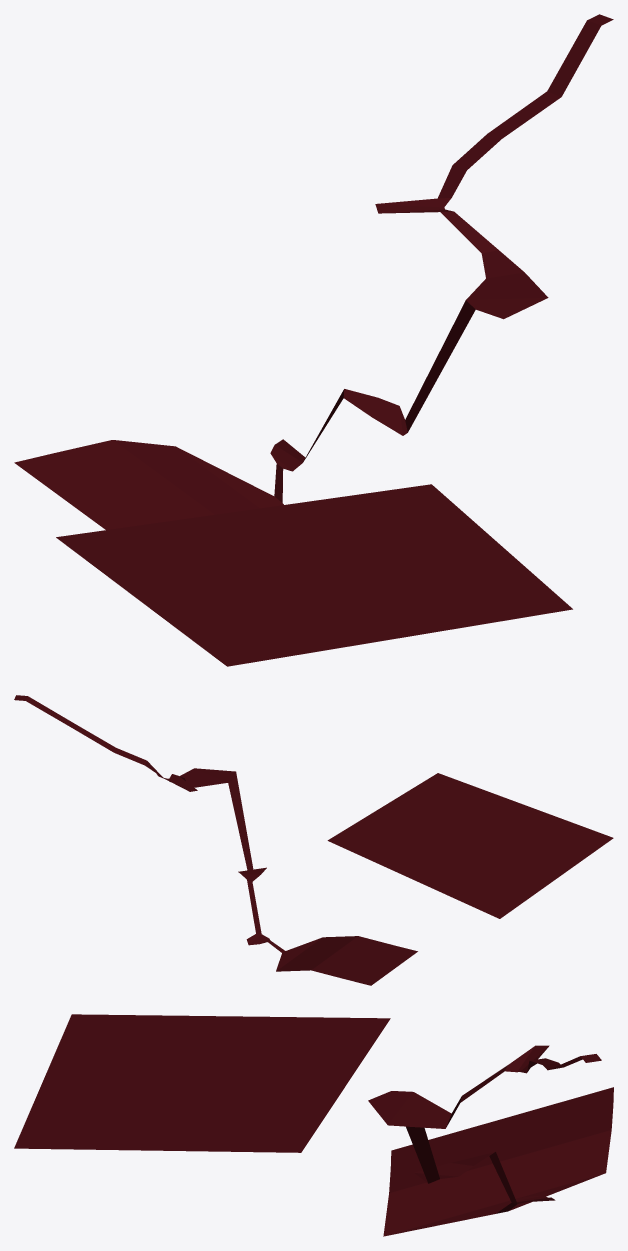
File: lava.fbx
The picture shows the model from 3 angles, top to bottom: view 1: azimuth 30°, elevation 25°; view 2: azimuth 150°, elevation 25°; view 3: azimuth 270°, elevation 25°; orthographic projection. The views are drawn at different scales.
Parts seen in each view (by area): view 1: Plane.001; view 2: Plane.001; view 3: Plane.001.
Part boxes in pixels (x1=…): Plane.001: x1=14, y1=14, x2=613, y2=666; Plane.001: x1=14, y1=695, x2=613, y2=985; Plane.001: x1=14, y1=1014, x2=613, y2=1236.
Size of the model in its own units: 8117 by 4359 by 6970.
